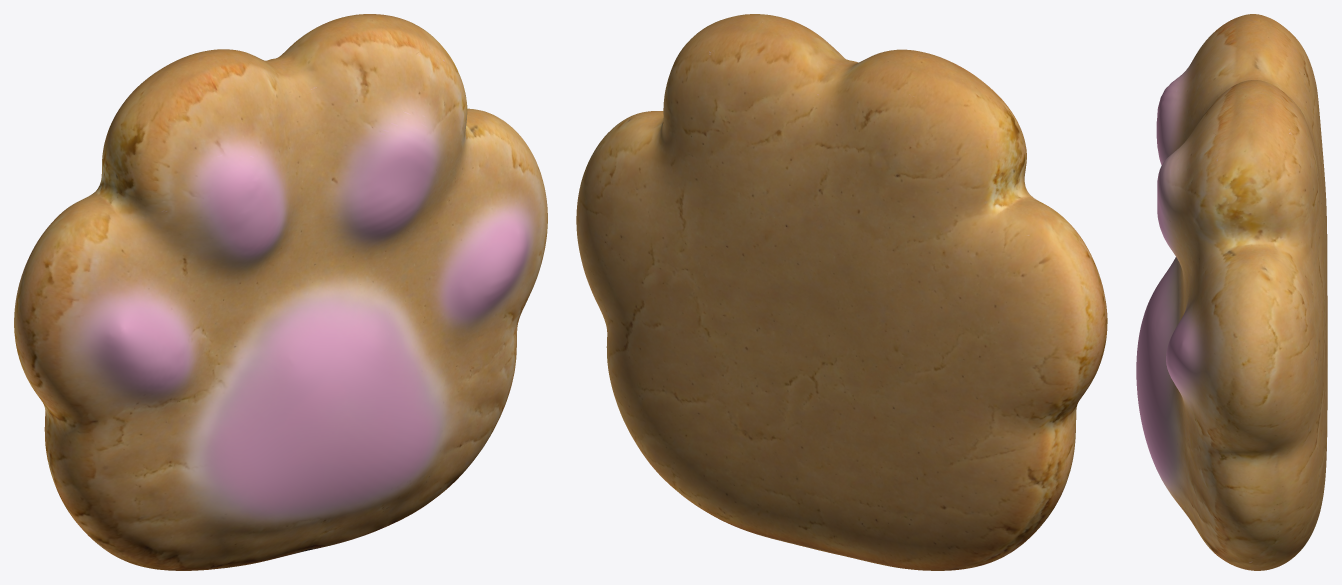
The model's file is Treat1.fbx.
3 views of the same model, side by side, from view 1: azimuth 30°, elevation 25°; view 2: azimuth 150°, elevation 25°; view 3: azimuth 270°, elevation 25° (orthographic). The views are drawn at different scales.
Parts seen in each view (by area): view 1: Cat_treat_2; view 2: Cat_treat_2; view 3: Cat_treat_2.
Boxes of the visible parts, box(x1,y1,x2,y2) form: Cat_treat_2: box(14, 14, 547, 570); Cat_treat_2: box(576, 14, 1107, 570); Cat_treat_2: box(1136, 14, 1327, 570).
Bounding box in the file's own units: 200 × 187 × 69.59.
Materials: 1 (1 with a texture image).
